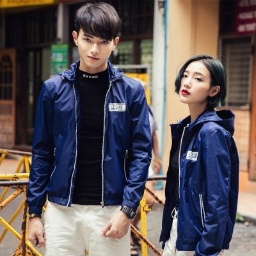face: (71, 1, 121, 68), (174, 53, 227, 105)
